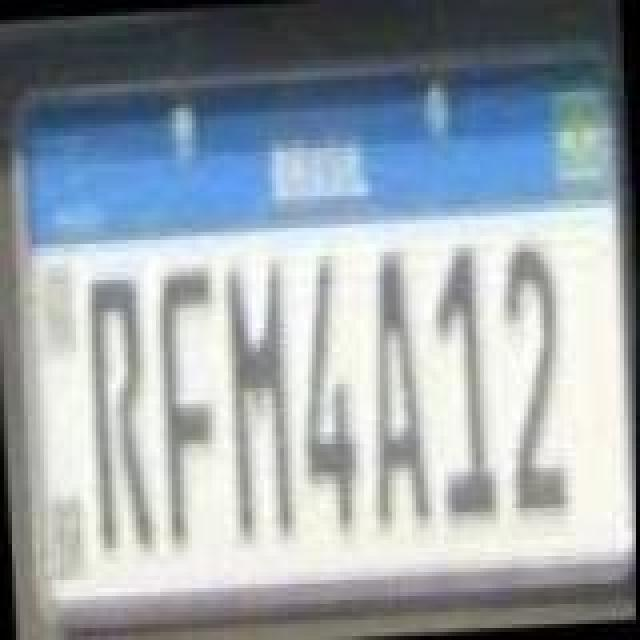1: (428, 240, 500, 524)
2: (498, 236, 574, 516)
4: (292, 254, 364, 530)
A: (358, 240, 434, 524)
F: (154, 260, 230, 544)
M: (222, 258, 298, 546)
R: (82, 272, 158, 552)
